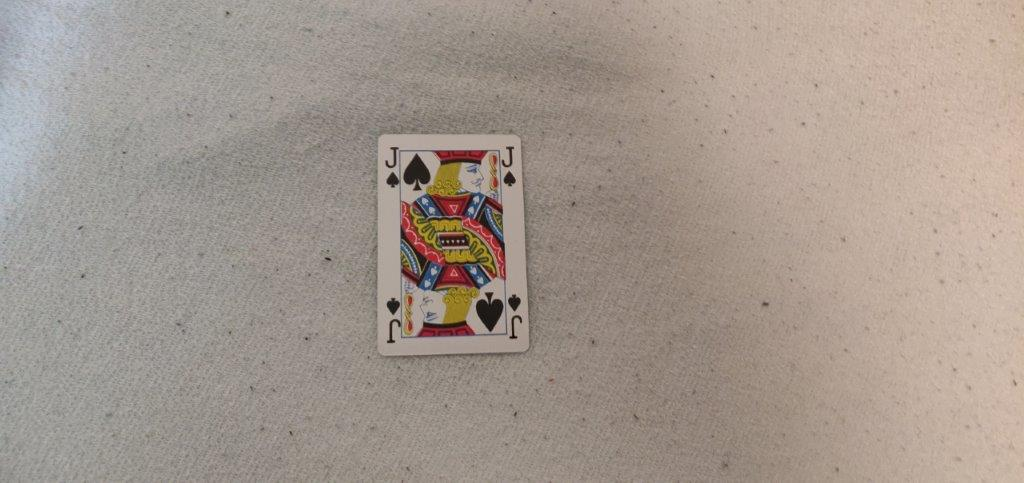JS: (498, 144, 521, 188), (382, 144, 402, 187)
